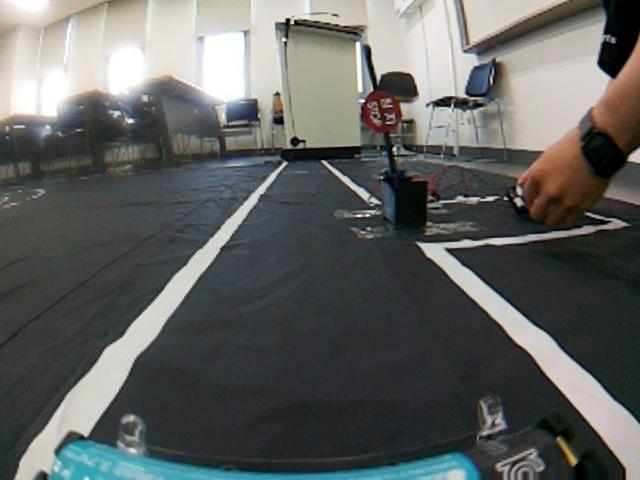sign_stop: (359, 89, 404, 134)
straight: (3, 218, 640, 480)
